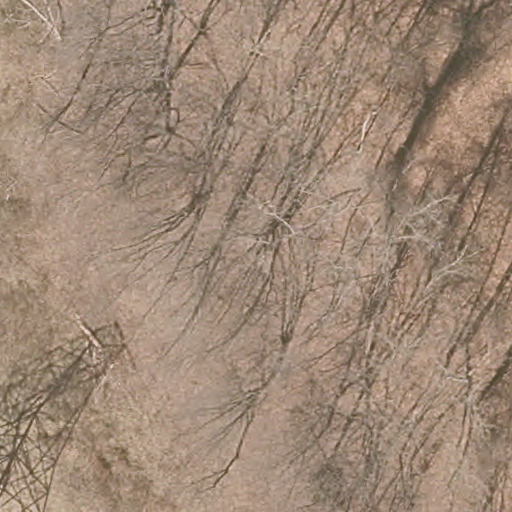TT: (1, 321, 125, 512)
